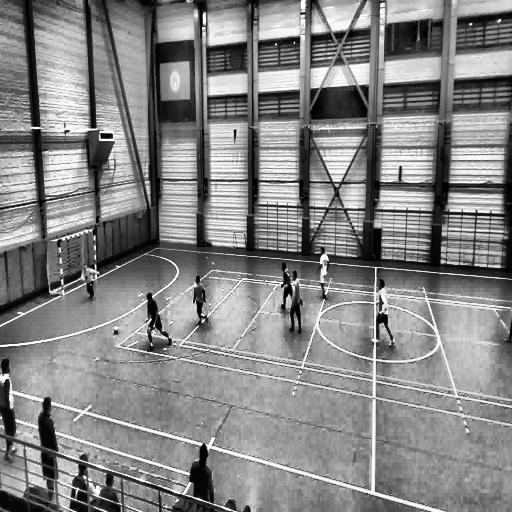ball: (114, 326, 118, 334)
player: (38, 399, 59, 506), (0, 362, 17, 458), (146, 291, 171, 349), (375, 279, 395, 348), (289, 271, 302, 333), (193, 277, 208, 326), (81, 266, 98, 300), (318, 247, 329, 299), (280, 263, 291, 310)
